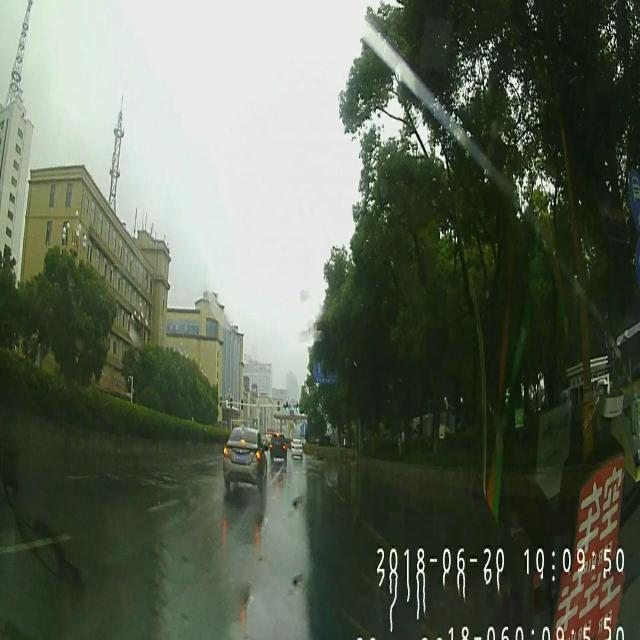car: (222, 430, 266, 494), (268, 428, 288, 468), (290, 438, 304, 462)
